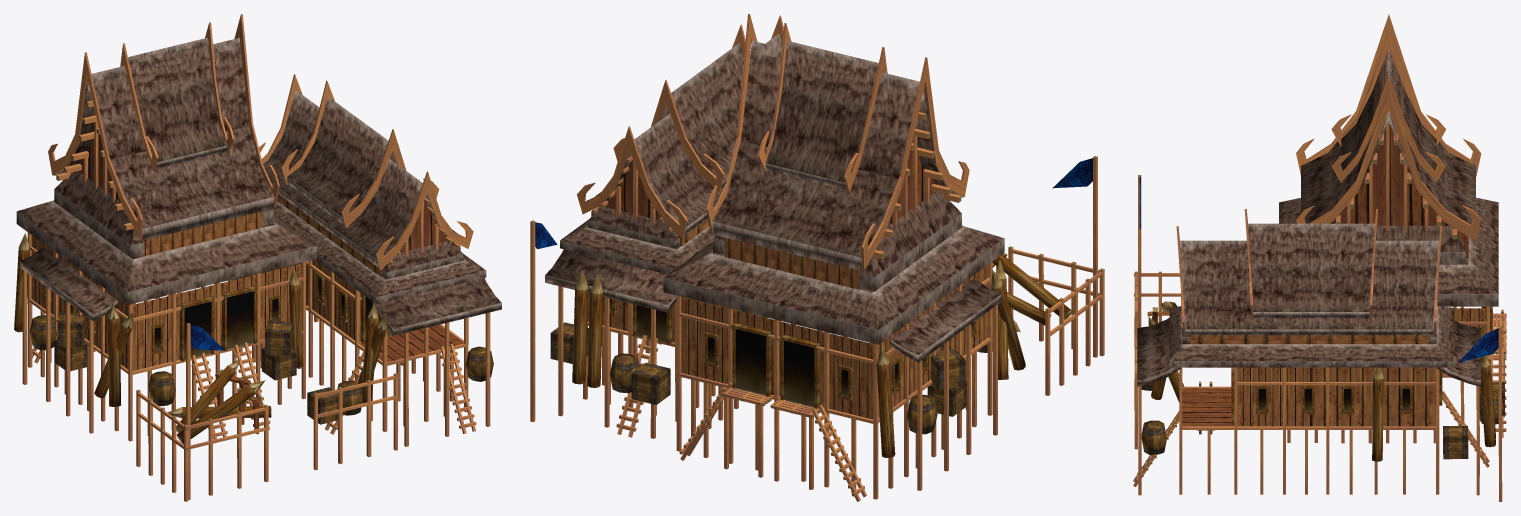
The model's file is arsenal.dae.
3 renders of one model, left to right at view 1: azimuth 30°, elevation 25°; view 2: azimuth 150°, elevation 25°; view 3: azimuth 270°, elevation 25°, orthographic. The views are drawn at different scales.
Visible parts, largest first — view 1: arsenal; view 2: arsenal; view 3: arsenal.
Part boxes in pixels (bbox=[...]): arsenal: bbox=[14, 14, 501, 501]; arsenal: bbox=[530, 14, 1104, 501]; arsenal: bbox=[1133, 14, 1506, 501].
Size of the model in its own units: 25.53 by 25.77 by 26.52.
